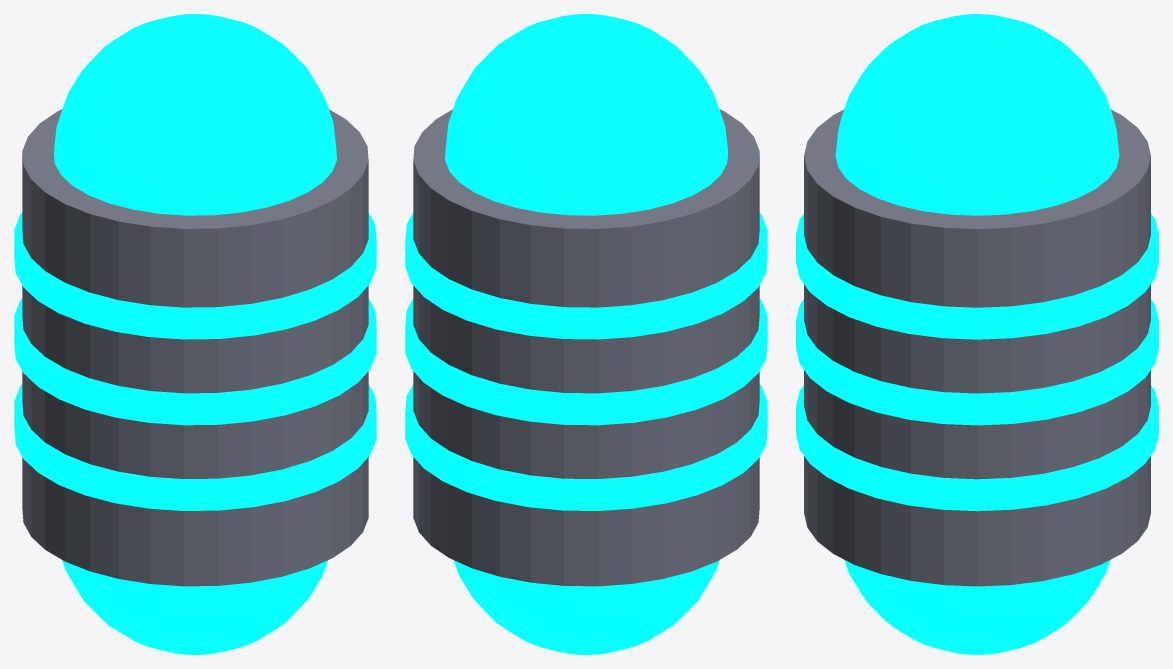
Rendered from pickup_shield.glb.
3 renders of one model, left to right at view 1: azimuth 30°, elevation 25°; view 2: azimuth 150°, elevation 25°; view 3: azimuth 270°, elevation 25°, orthographic.
Parts seen in each view (by area): view 1: BatteryCanister, EndCap_0.25, EndCap_-0.25, ShieldRing_0.12, ShieldRing_0.0, ShieldRing_-0.12; view 2: BatteryCanister, EndCap_0.25, EndCap_-0.25, ShieldRing_0.12, ShieldRing_0.0, ShieldRing_-0.12; view 3: BatteryCanister, EndCap_0.25, EndCap_-0.25, ShieldRing_0.12, ShieldRing_0.0, ShieldRing_-0.12.
Boxes of the visible parts, box(x1,y1,x2,y2) form: BatteryCanister: box(22, 109, 368, 586); EndCap_0.25: box(54, 14, 336, 215); EndCap_-0.25: box(62, 560, 328, 654); ShieldRing_0.12: box(14, 212, 376, 339); ShieldRing_0.0: box(14, 298, 376, 425); ShieldRing_-0.12: box(14, 384, 376, 510); BatteryCanister: box(413, 109, 759, 586); EndCap_0.25: box(445, 14, 727, 215); EndCap_-0.25: box(453, 560, 719, 654); ShieldRing_0.12: box(405, 212, 767, 339); ShieldRing_0.0: box(405, 298, 767, 425); ShieldRing_-0.12: box(405, 384, 767, 510); BatteryCanister: box(804, 109, 1150, 586); EndCap_0.25: box(835, 14, 1119, 215); EndCap_-0.25: box(844, 560, 1110, 654); ShieldRing_0.12: box(796, 214, 1158, 339); ShieldRing_0.0: box(796, 299, 1158, 425); ShieldRing_-0.12: box(796, 385, 1158, 511).
Size of the model in its own units: 0.46 by 0.86 by 0.46.
